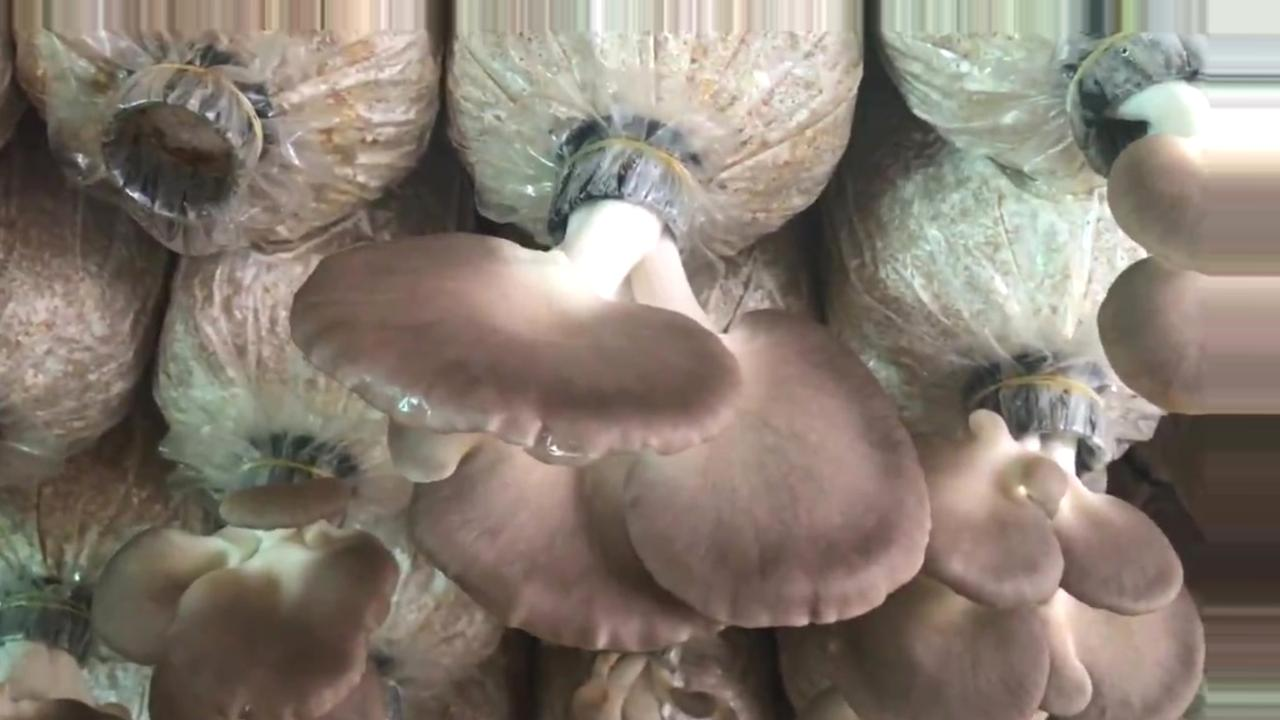nam: (291, 146, 930, 652), (802, 387, 1202, 719), (1062, 33, 1279, 413), (94, 458, 398, 720), (1, 596, 126, 720)
